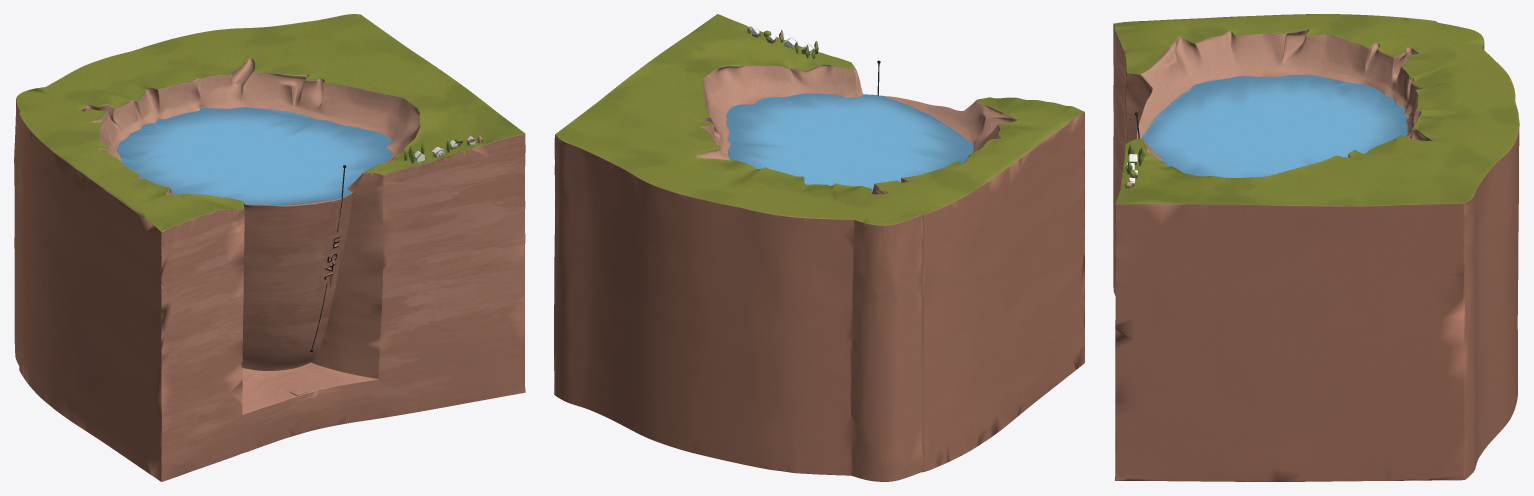
Rendered from obruk.glb.
3 renders of one model, left to right at view 1: azimuth 30°, elevation 25°; view 2: azimuth 150°, elevation 25°; view 3: azimuth 270°, elevation 25°, orthographic. The views are drawn at different scales.
Parts seen in each view (by area): view 1: Mesh_0; view 2: Mesh_0; view 3: Mesh_0.
Boxes of the visible parts, x1,y1,x2,y2 form: Mesh_0: (14,14,525,481); Mesh_0: (554,14,1084,481); Mesh_0: (1113,14,1519,481).
Size of the model in its own units: 1.9 by 1.29 by 1.67.
1 material, 1 textured.
